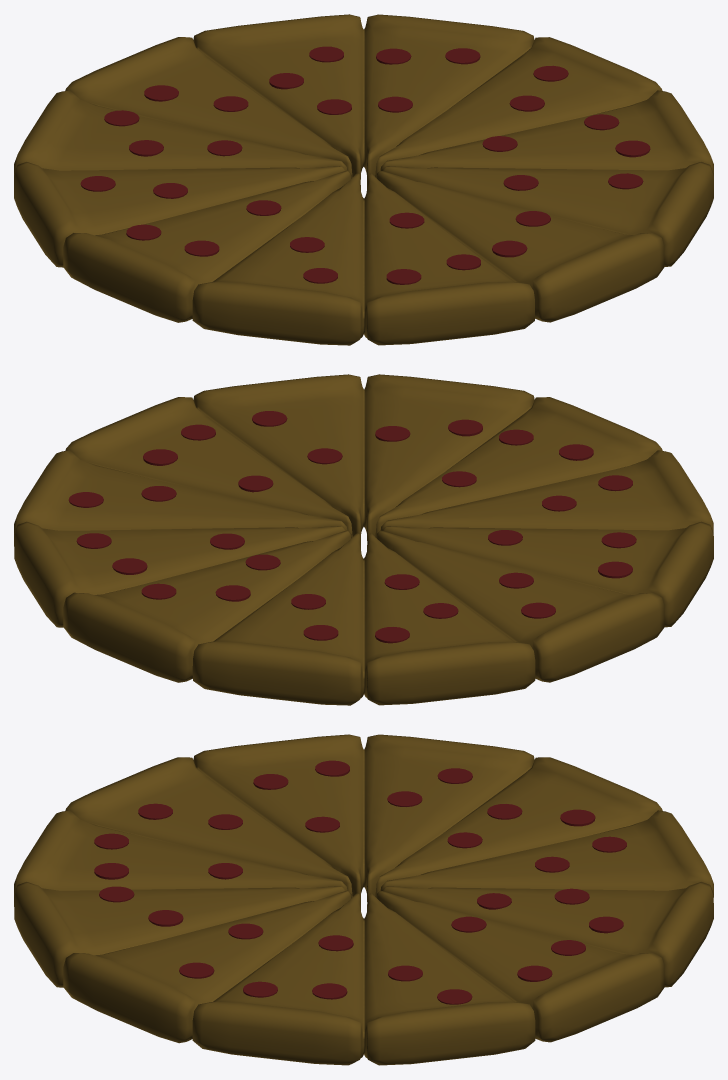
Rendered from Pizza Model.fbx.
The picture shows the model from 3 angles, top to bottom: view 1: azimuth 30°, elevation 25°; view 2: azimuth 150°, elevation 25°; view 3: azimuth 270°, elevation 25°; orthographic projection.
Parts seen in each view (by area): view 1: Cylinder016, Cylinder042; view 2: Cylinder016, Cylinder042; view 3: Cylinder016, Cylinder042.
Part boxes in pixels (x1,y1,x2,y2): Cylinder016: (14, 14, 713, 345); Cylinder042: (80, 46, 650, 284); Cylinder016: (14, 374, 713, 705); Cylinder042: (68, 411, 636, 643); Cylinder016: (14, 734, 713, 1065); Cylinder042: (94, 760, 626, 1004).
Bounding box in the file's own units: 12.07 × 0.8553 × 12.08.
